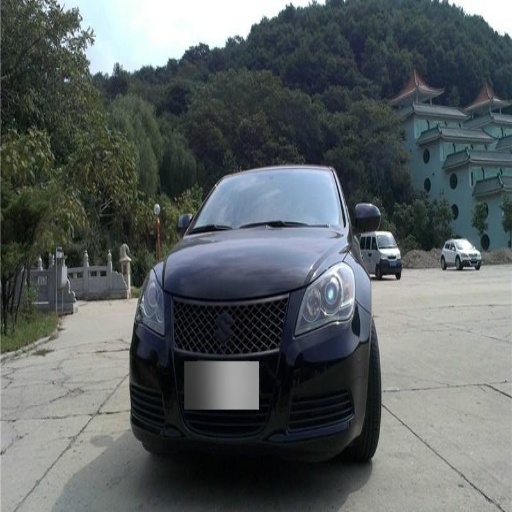front_bumper: (137, 285, 370, 461)
front_right_light: (139, 265, 164, 331)
hood: (164, 228, 346, 297)
